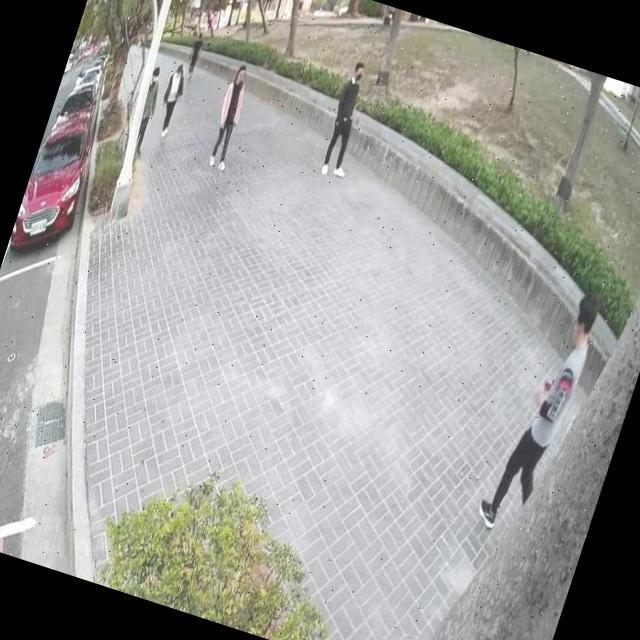person: (468, 271, 612, 546), (314, 56, 382, 184), (203, 58, 261, 173), (126, 62, 172, 161), (150, 59, 194, 142), (180, 26, 212, 84)
